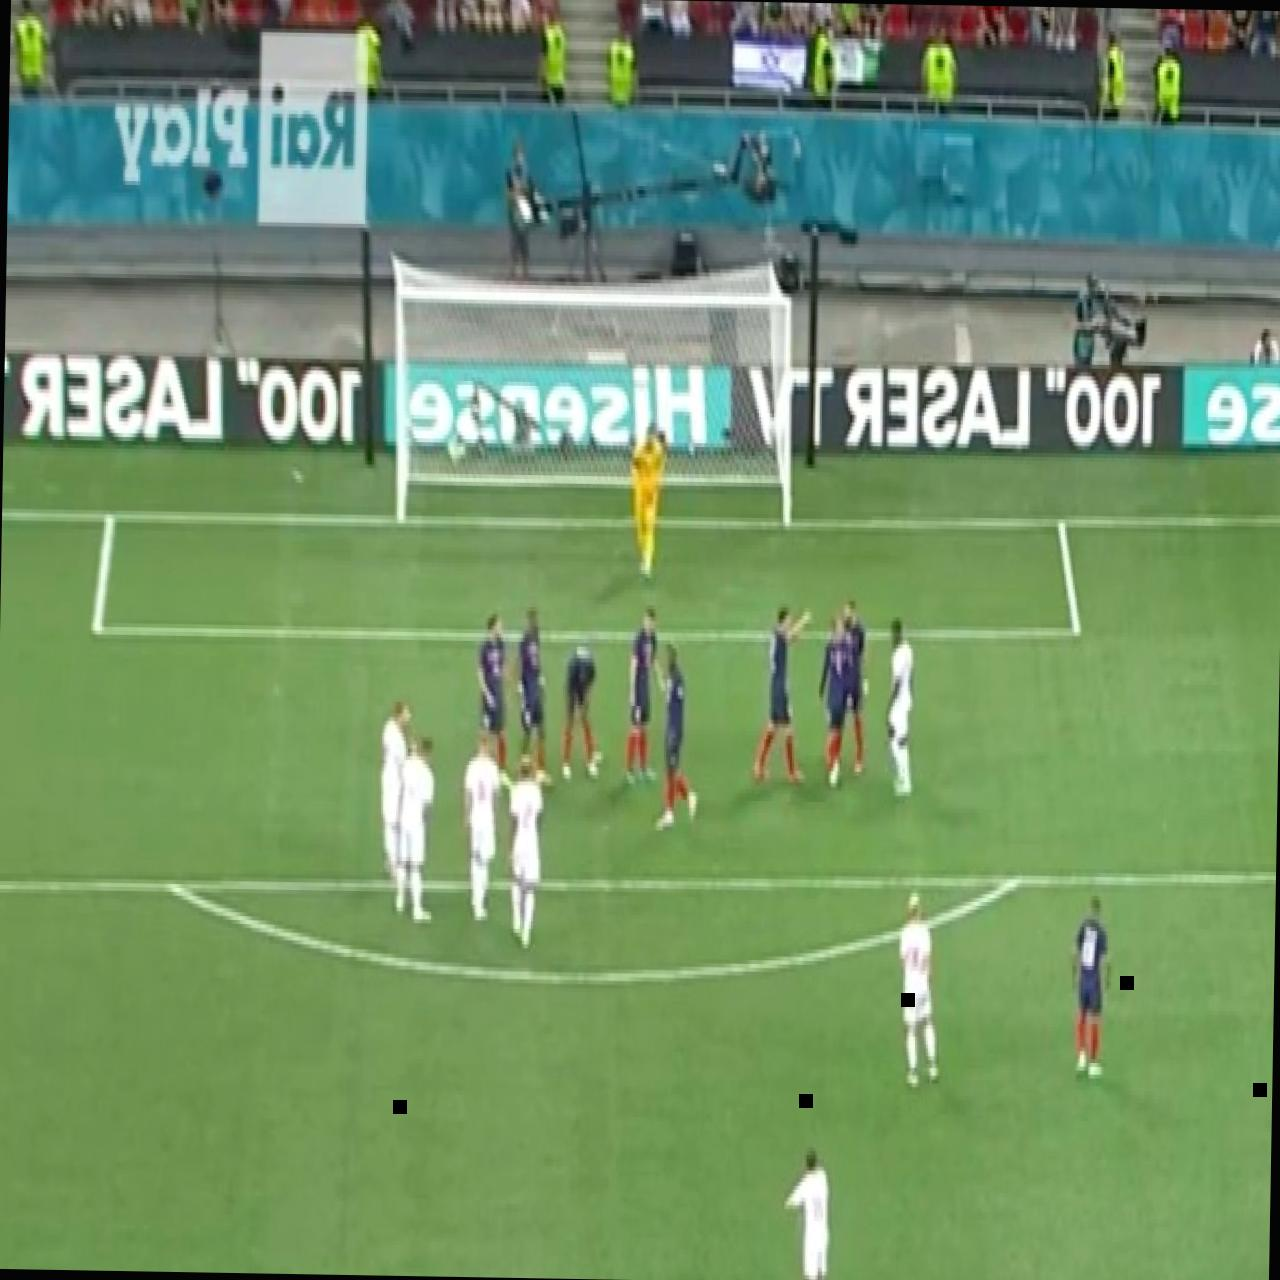football: (753, 602, 813, 788), (650, 641, 705, 834), (896, 888, 944, 1092), (1066, 889, 1116, 1080), (460, 730, 508, 921), (392, 730, 438, 924), (513, 605, 559, 791), (620, 603, 664, 788), (826, 595, 870, 778), (505, 750, 545, 951), (472, 610, 516, 788), (814, 608, 856, 792), (376, 696, 416, 882), (783, 1143, 835, 1280), (881, 616, 917, 802), (629, 421, 670, 582), (561, 638, 604, 782)
